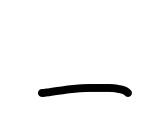minus: (38, 84, 132, 97)
